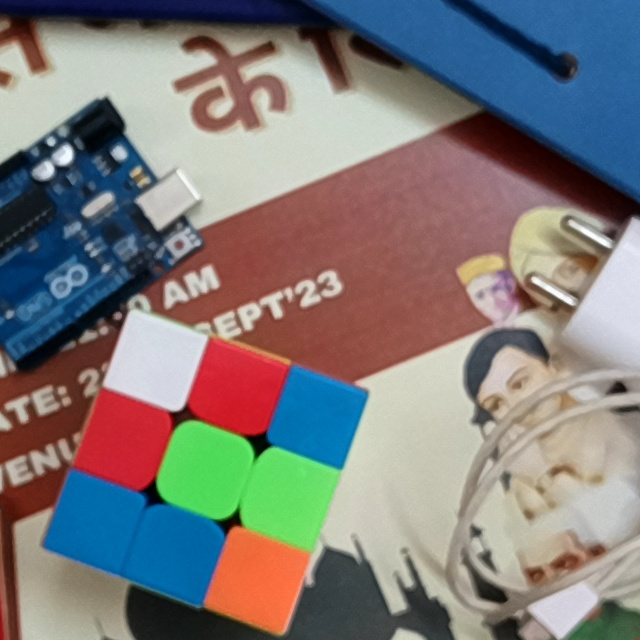tile: (225, 548, 289, 611), (62, 490, 127, 552), (258, 466, 321, 529), (144, 522, 206, 586), (174, 438, 238, 498), (203, 361, 266, 421), (95, 409, 155, 470), (286, 392, 346, 449), (126, 334, 185, 390)
